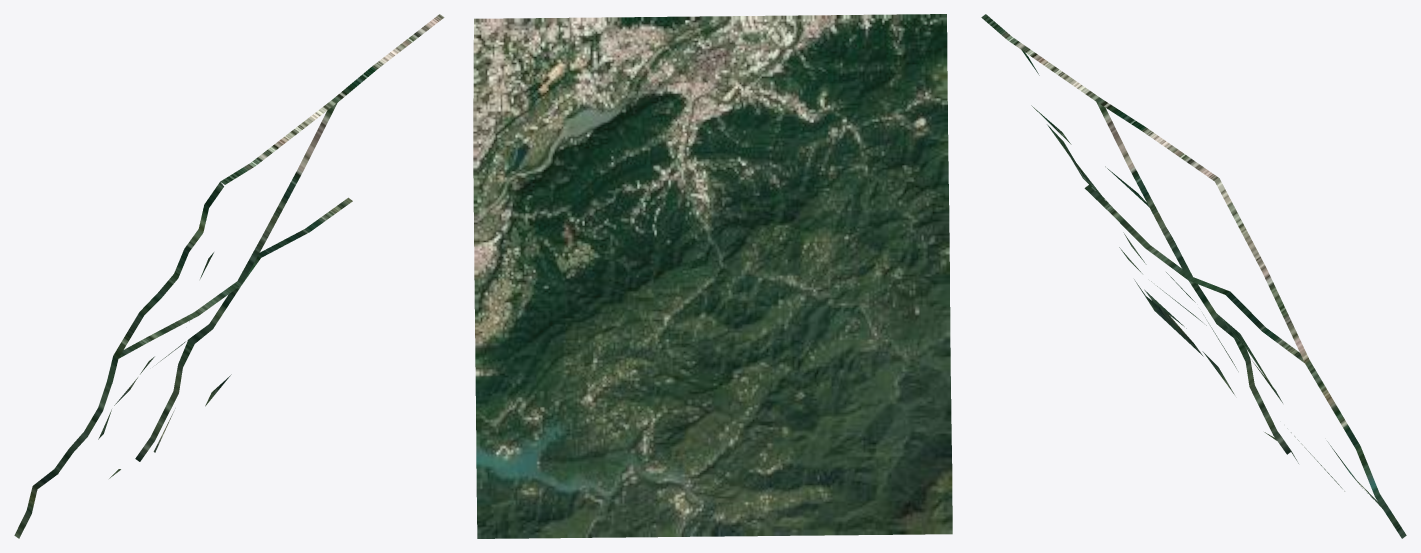
3 renders of one model, left to right at view 1: azimuth 30°, elevation 25°; view 2: azimuth 150°, elevation 25°; view 3: azimuth 270°, elevation 25°, orthographic. The views are drawn at different scales.
Size of the model in its own units: 20149 by 17818 by 16793.
1 material, 1 textured.
